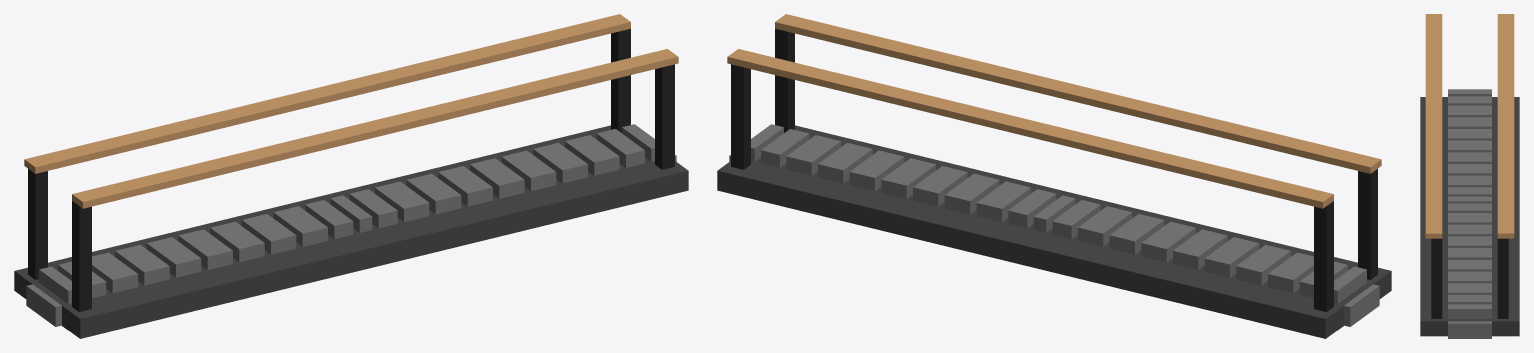
File: beruto_combare.obj
3 views of the same model, side by side, from view 1: azimuth 30°, elevation 25°; view 2: azimuth 150°, elevation 25°; view 3: azimuth 270°, elevation 25° (orthographic). The views are drawn at different scales.
Size of the model in its own units: 9.8 by 2.1 by 1.8.
1 material, 1 textured.
